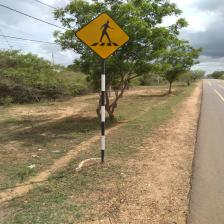yellowboard: (74, 12, 130, 60)
